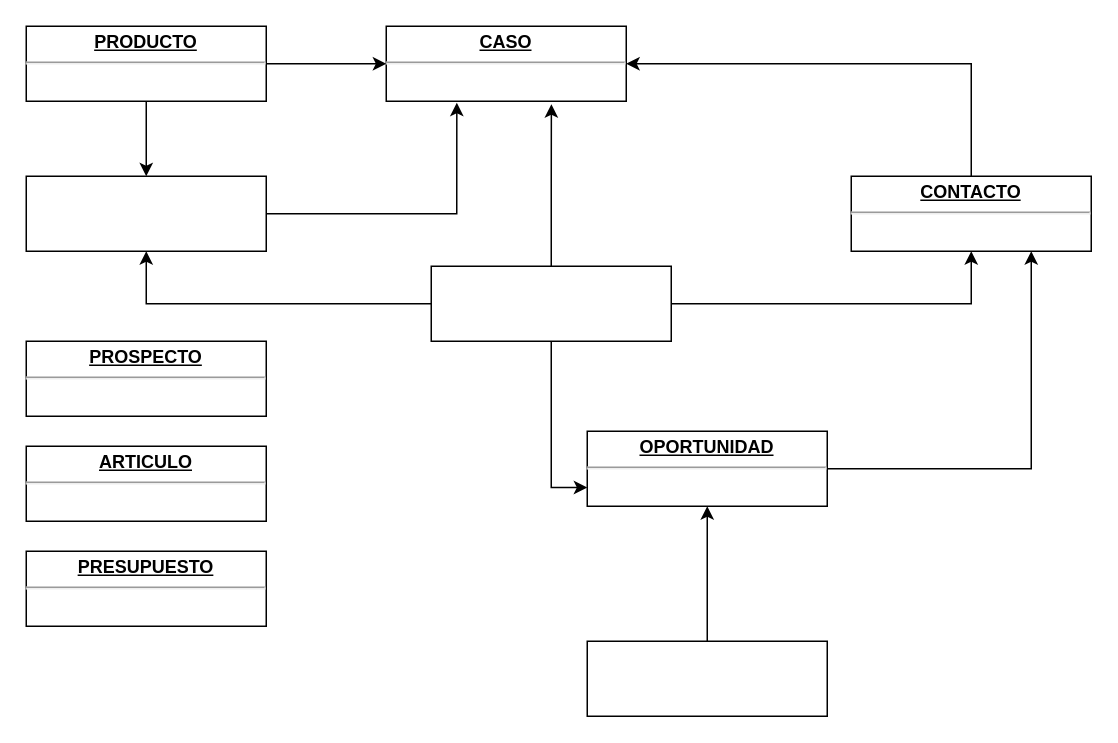
Some shapes in this 1118 by 743 pixel diagram are drawn without their labels. Here are the shapes that lost their labels. From the top down, the box of each, then its label:
(25, 175, 266, 251): ACTIVO
(430, 265, 671, 341): CUENTA
(586, 640, 827, 716): LISTA DE PRECIOS
